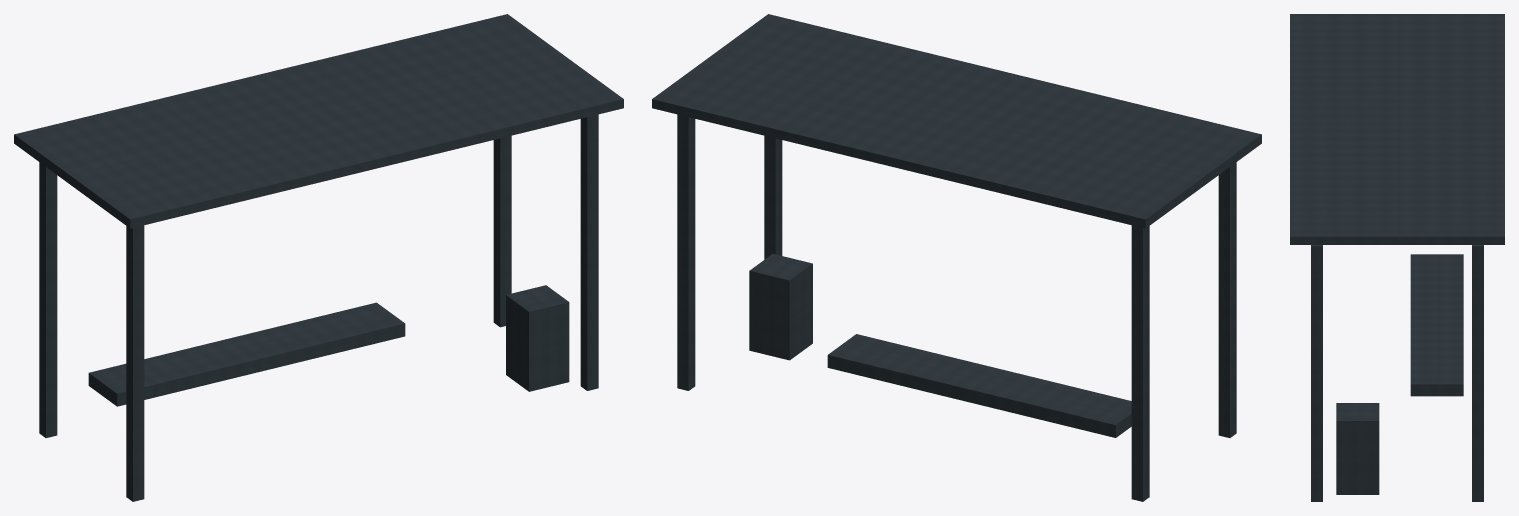
The model's file is PZ_BusShelter_Optional_CollisionProxies.glb.
3 renders of one model, left to right at view 1: azimuth 30°, elevation 25°; view 2: azimuth 150°, elevation 25°; view 3: azimuth 270°, elevation 25°, orthographic. The views are drawn at different scales.
Parts seen in each view (by area): view 1: UCX_PZ_Shelter_Canopy, UCX_PZ_Shelter_Bench, UCX_PZ_Shelter_Bin, UCX_PZ_Shelter_Post_LF, UCX_PZ_Shelter_Post_RF, UCX_PZ_Shelter_Post_LB, UCX_PZ_Shelter_Post_RB; view 2: UCX_PZ_Shelter_Canopy, UCX_PZ_Shelter_Bench, UCX_PZ_Shelter_Bin, UCX_PZ_Shelter_Post_LB, UCX_PZ_Shelter_Post_RB, UCX_PZ_Shelter_Post_LF, UCX_PZ_Shelter_Post_RF; view 3: UCX_PZ_Shelter_Canopy, UCX_PZ_Shelter_Bench, UCX_PZ_Shelter_Bin, UCX_PZ_Shelter_Post_RF, UCX_PZ_Shelter_Post_RB.
Boxes of the visible parts, x1,y1,x2,y2 form: UCX_PZ_Shelter_Canopy: (14, 14, 623, 228); UCX_PZ_Shelter_Bench: (88, 302, 405, 406); UCX_PZ_Shelter_Bin: (506, 285, 569, 391); UCX_PZ_Shelter_Post_LF: (126, 225, 144, 501); UCX_PZ_Shelter_Post_RF: (580, 114, 598, 390); UCX_PZ_Shelter_Post_LB: (39, 162, 57, 437); UCX_PZ_Shelter_Post_RB: (493, 135, 511, 327); UCX_PZ_Shelter_Canopy: (652, 14, 1261, 228); UCX_PZ_Shelter_Bench: (827, 334, 1131, 437); UCX_PZ_Shelter_Bin: (749, 254, 812, 360); UCX_PZ_Shelter_Post_LB: (1131, 225, 1149, 501); UCX_PZ_Shelter_Post_RB: (677, 114, 695, 390); UCX_PZ_Shelter_Post_LF: (1218, 162, 1236, 437); UCX_PZ_Shelter_Post_RF: (764, 135, 782, 259); UCX_PZ_Shelter_Canopy: (1290, 14, 1504, 244); UCX_PZ_Shelter_Bench: (1410, 254, 1463, 396); UCX_PZ_Shelter_Bin: (1336, 403, 1379, 494); UCX_PZ_Shelter_Post_RF: (1311, 245, 1322, 501); UCX_PZ_Shelter_Post_RB: (1472, 245, 1483, 501).
Bounding box in the file's own units: 4.78 × 2.72 × 1.95.
Materials: 1 (1 with a texture image).
